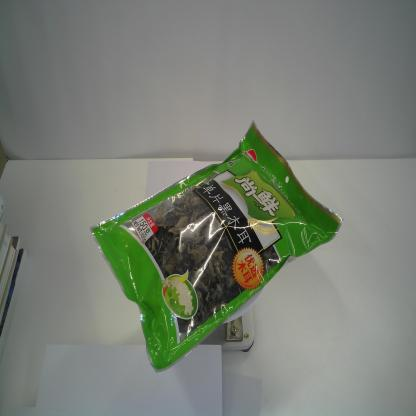Dried Food: (89, 119, 344, 371)
